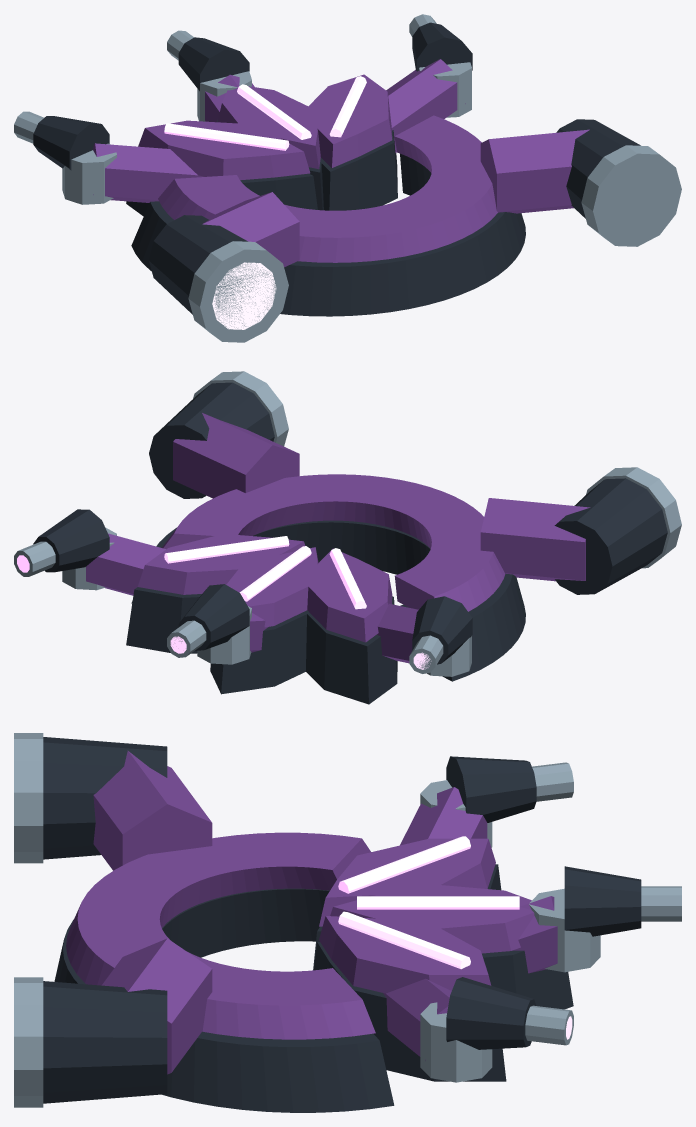
The model's file is c5_compositeEnemy.glb.
3 views of the same model, one above another, from view 1: azimuth 30°, elevation 25°; view 2: azimuth 150°, elevation 25°; view 3: azimuth 270°, elevation 25° (orthographic). The views are drawn at different scales.
Parts seen in each view (by area): view 1: compositeEnemy / Armor, compositeEnemy / Chassis, compositeEnemy / Titanium, compositeEnemy / Energy; view 2: compositeEnemy / Armor, compositeEnemy / Chassis, compositeEnemy / Titanium, compositeEnemy / Energy; view 3: compositeEnemy / Armor, compositeEnemy / Chassis, compositeEnemy / Titanium, compositeEnemy / Energy.
Boxes of the visible parts, bbox=[...] form: compositeEnemy / Armor: bbox=[93, 59, 589, 267]; compositeEnemy / Chassis: bbox=[33, 22, 640, 316]; compositeEnemy / Titanium: bbox=[14, 14, 681, 342]; compositeEnemy / Energy: bbox=[164, 76, 366, 329]; compositeEnemy / Armor: bbox=[86, 413, 590, 663]; compositeEnemy / Chassis: bbox=[33, 382, 667, 704]; compositeEnemy / Titanium: bbox=[14, 371, 681, 676]; compositeEnemy / Energy: bbox=[17, 536, 431, 669]; compositeEnemy / Armor: bbox=[66, 750, 557, 1074]; compositeEnemy / Chassis: bbox=[43, 737, 641, 1112]; compositeEnemy / Titanium: bbox=[14, 733, 681, 1107]; compositeEnemy / Energy: bbox=[338, 836, 572, 1039].
Bounding box in the file's own units: 1.57 × 0.355 × 1.48.
